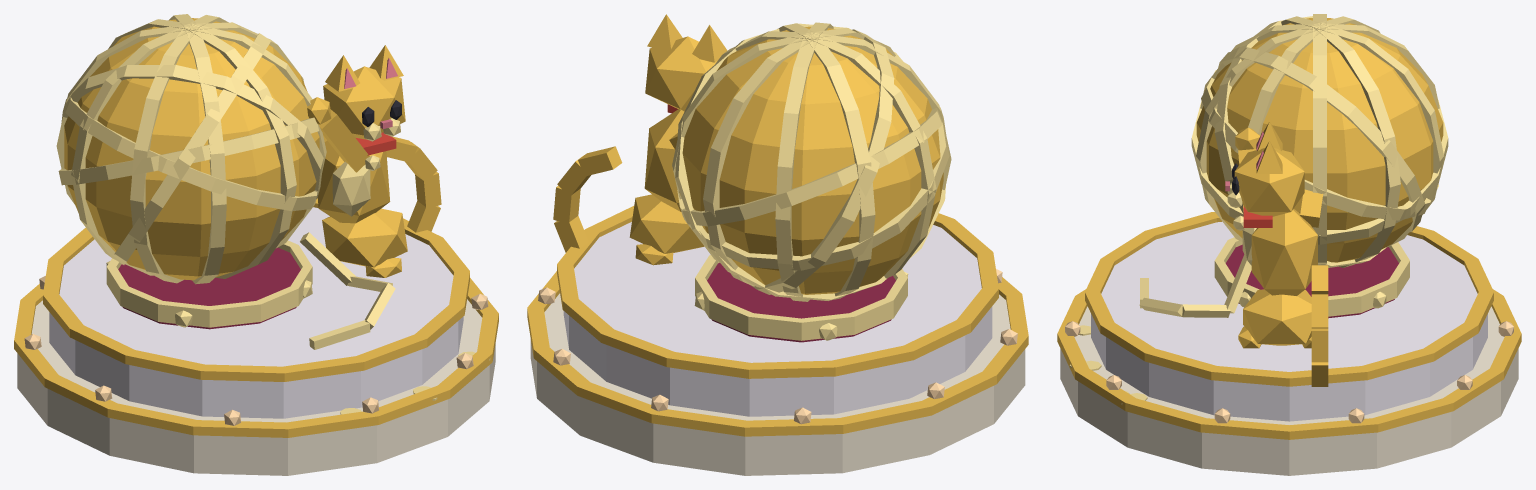
The model's file is CatCafe_Lawn_GoldenYarnKitten.glb.
3 renders of one model, left to right at view 1: azimuth 30°, elevation 25°; view 2: azimuth 150°, elevation 25°; view 3: azimuth 270°, elevation 25°, orthographic. The views are drawn at different scales.
Parts seen in each view (by area): view 1: CatCafe_Lawn_GoldenYarnKitten, CatCafe_Lawn_GoldenYarnKitten_Yarn_Spin, CatCafe_Lawn_GoldenYarnKitten_Bulbs; view 2: CatCafe_Lawn_GoldenYarnKitten, CatCafe_Lawn_GoldenYarnKitten_Yarn_Spin, CatCafe_Lawn_GoldenYarnKitten_Bulbs; view 3: CatCafe_Lawn_GoldenYarnKitten, CatCafe_Lawn_GoldenYarnKitten_Yarn_Spin, CatCafe_Lawn_GoldenYarnKitten_Bulbs.
Part boxes in pixels (left/top/right/bottom): CatCafe_Lawn_GoldenYarnKitten: left=14, top=45, right=498, bottom=475; CatCafe_Lawn_GoldenYarnKitten_Yarn_Spin: left=56, top=14, right=395, bottom=349; CatCafe_Lawn_GoldenYarnKitten_Bulbs: left=24, top=276, right=488, bottom=425; CatCafe_Lawn_GoldenYarnKitten: left=527, top=14, right=1028, bottom=475; CatCafe_Lawn_GoldenYarnKitten_Yarn_Spin: left=672, top=22, right=951, bottom=301; CatCafe_Lawn_GoldenYarnKitten_Bulbs: left=538, top=269, right=1017, bottom=424; CatCafe_Lawn_GoldenYarnKitten: left=1057, top=121, right=1521, bottom=475; CatCafe_Lawn_GoldenYarnKitten_Yarn_Spin: left=1139, top=14, right=1448, bottom=317; CatCafe_Lawn_GoldenYarnKitten_Bulbs: left=1065, top=321, right=1513, bottom=423.
Size of the model in its own units: 3.04 by 2.39 by 3.04.
Materials: 1 (1 with a texture image).
